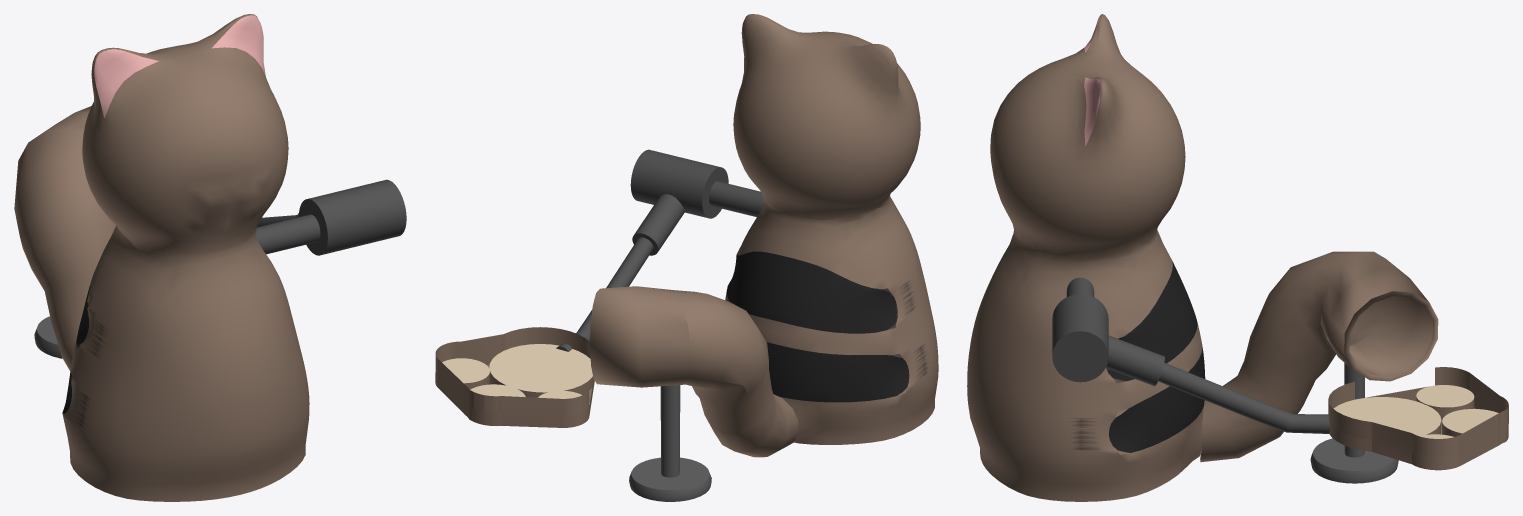
The model's file is THe paw-A-Pult  Vtail.fbx.
3 renders of one model, left to right at view 1: azimuth 30°, elevation 25°; view 2: azimuth 150°, elevation 25°; view 3: azimuth 270°, elevation 25°, orthographic. The views are drawn at different scales.
Visible parts, largest first — view 1: Paw-O_pult 1; view 2: Paw-O_pult 1; view 3: Paw-O_pult 1.
Boxes of the visible parts, x1,y1,x2,y2 form: Paw-O_pult 1: (14, 14, 406, 501); Paw-O_pult 1: (435, 14, 938, 501); Paw-O_pult 1: (967, 14, 1508, 501).
Bounding box in the file's own units: 1402 × 1605 × 1923.
Materials: 7 (7 with a texture image).
